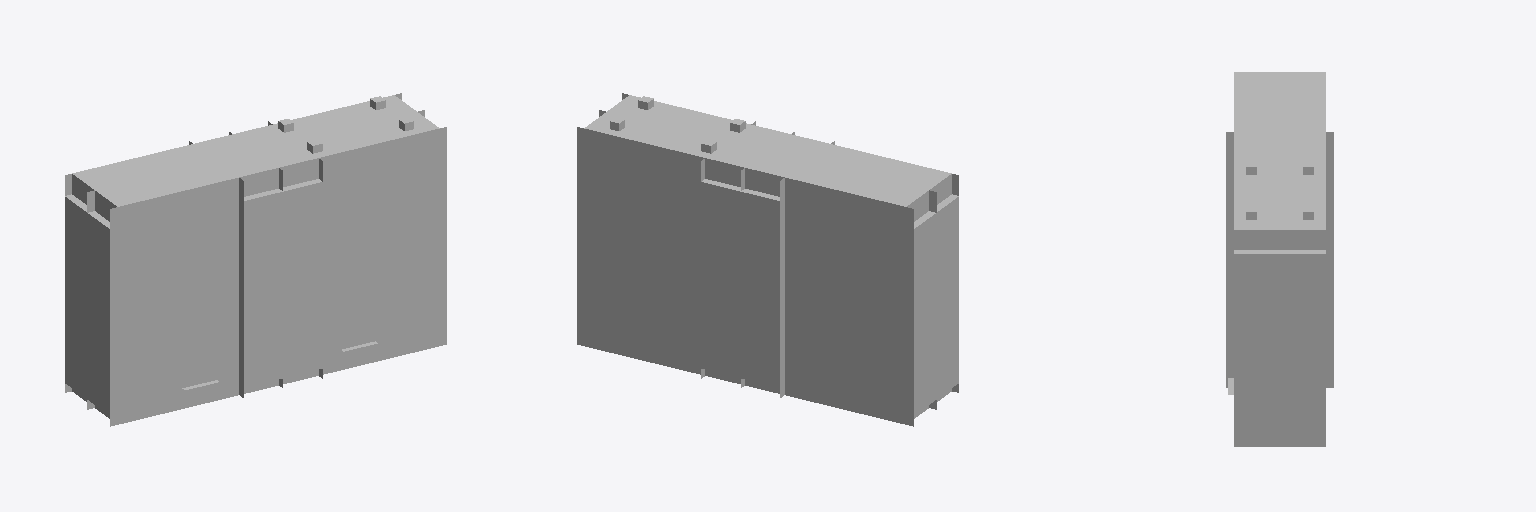
The model's file is rus_build_9et_03_LOD1_3.obj.
3 views of the same model, side by side, from view 1: azimuth 30°, elevation 25°; view 2: azimuth 150°, elevation 25°; view 3: azimuth 270°, elevation 25° (orthographic).
Parts seen in each view (by area): view 1: rus_build_9et_03_LOD1; view 2: rus_build_9et_03_LOD1; view 3: rus_build_9et_03_LOD1.
Part boxes in pixels (bbox=[...]): rus_build_9et_03_LOD1: bbox=[65, 93, 446, 426]; rus_build_9et_03_LOD1: bbox=[577, 93, 958, 426]; rus_build_9et_03_LOD1: bbox=[1226, 72, 1333, 446].
Size of the model in its own units: 136 by 87 by 38.